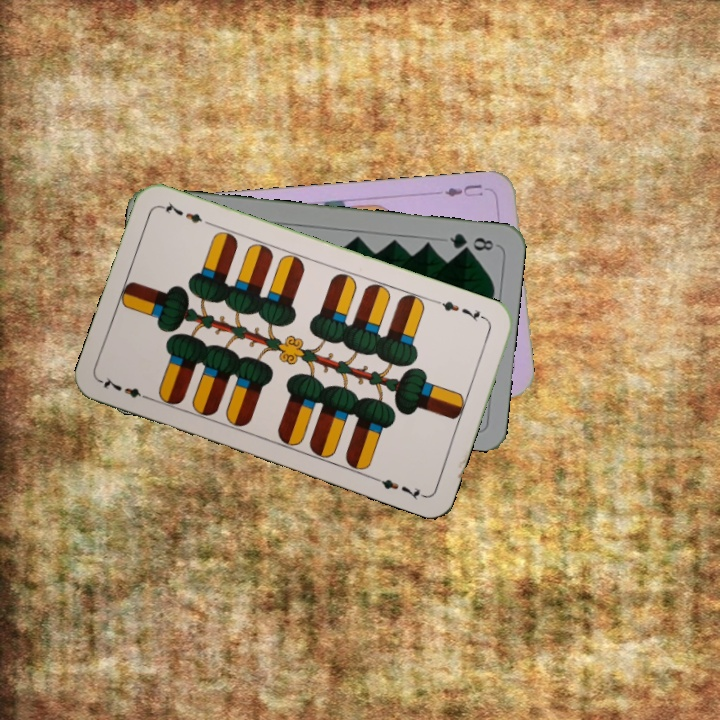E7: (97, 374, 155, 403), (433, 296, 490, 324)
EU: (440, 180, 486, 200)
G8: (445, 229, 499, 254)
